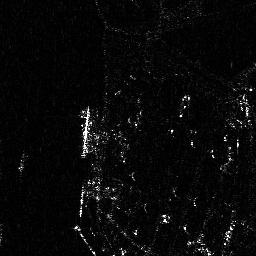ship: (78, 104, 93, 159)
